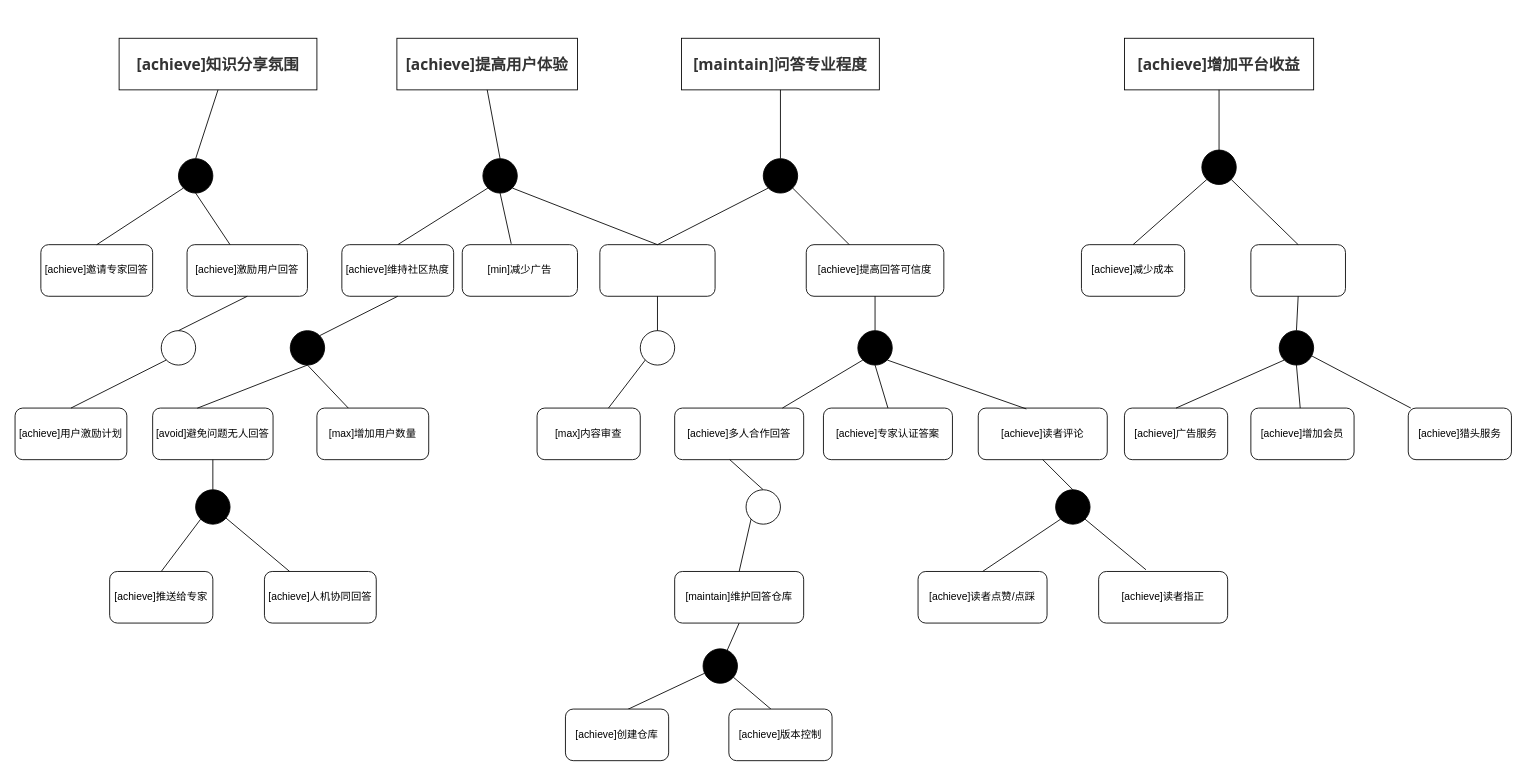
Image size: 1527x776. Some labels were removed from this diagram. Here are the shapes that lost their labels. From the top down, the box of each, then its label:
(599, 244, 715, 296): [avoid]避免泛娱乐化
(1250, 244, 1345, 296): [achieve]增加收入
